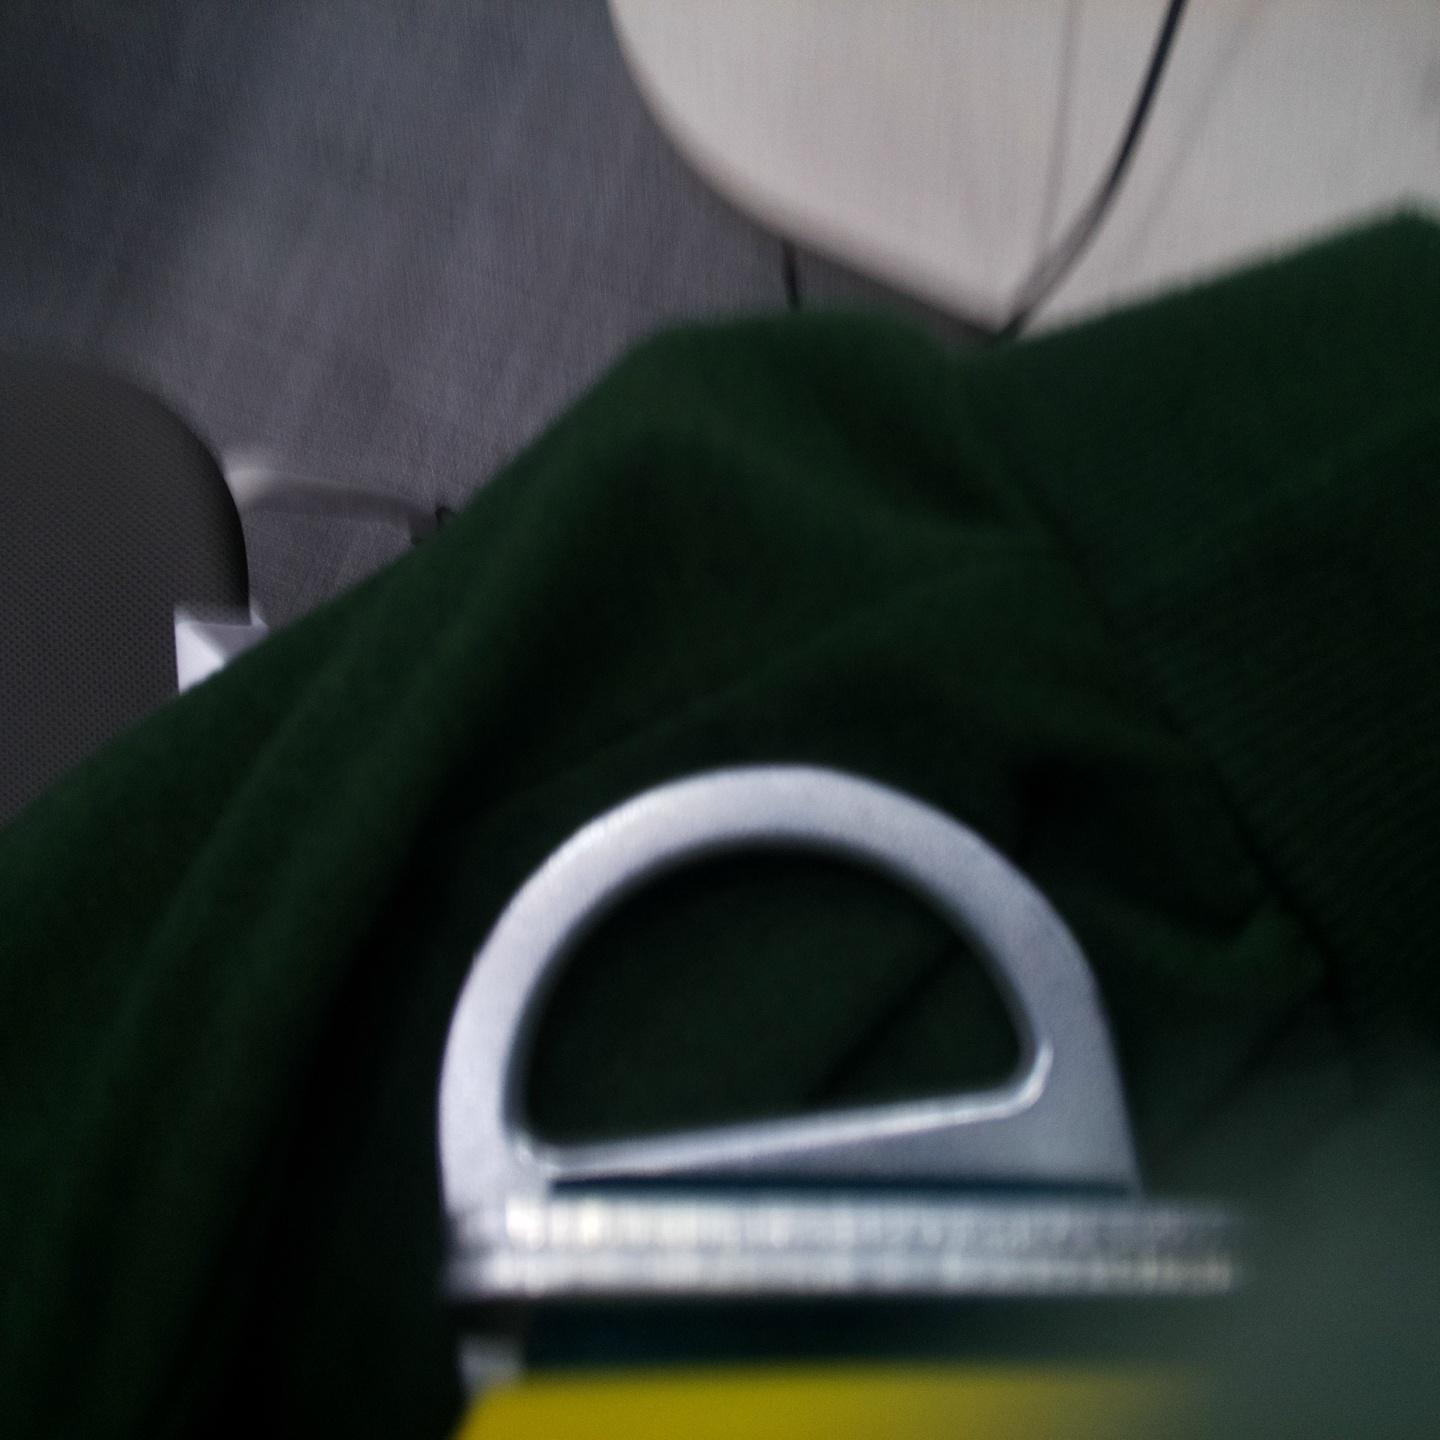UNSUCCESS: (433, 765, 1143, 1180)
